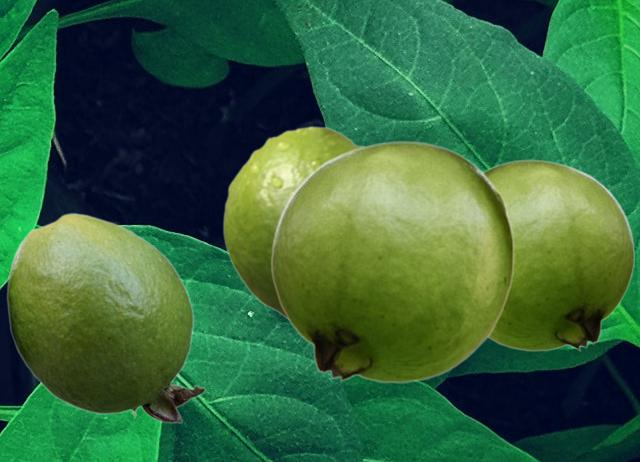guava: (270, 140, 514, 382), (6, 212, 205, 422), (484, 159, 634, 351), (222, 125, 363, 319)
